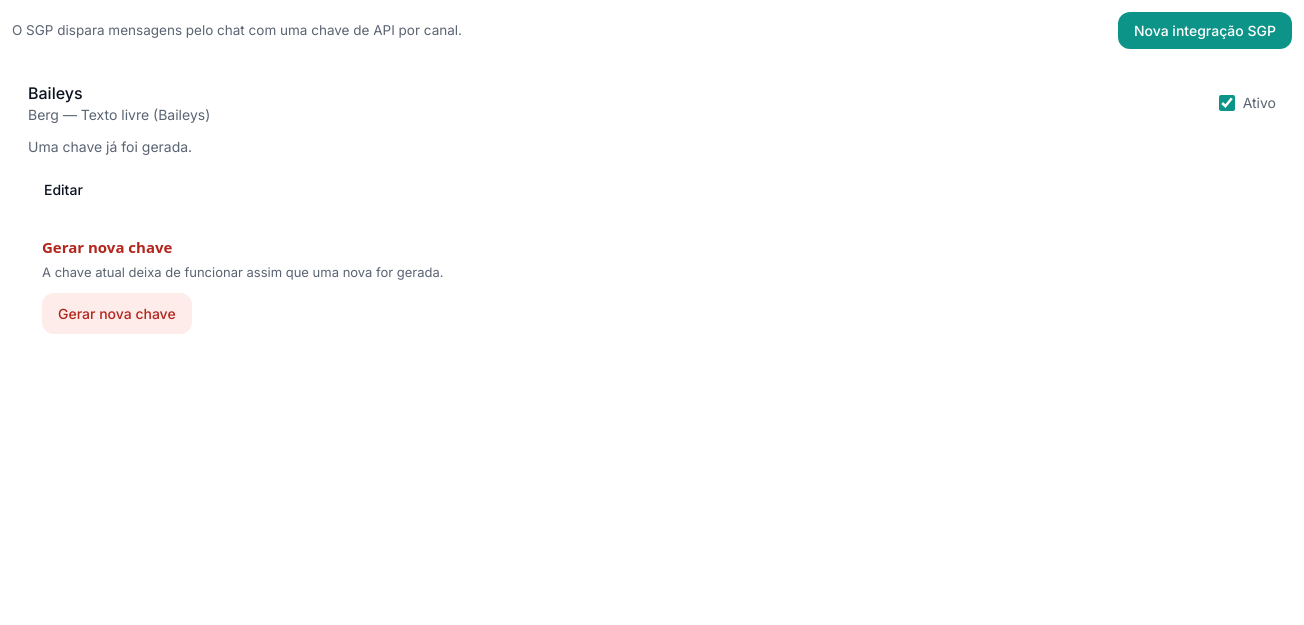
Scenario: SgpChannelPage › the edit form template selector follows the edit form own channel selection
The width and height of the screenshot is (1304, 625).
Click the button "Editar" at (63, 190), box [28,169,99,210]
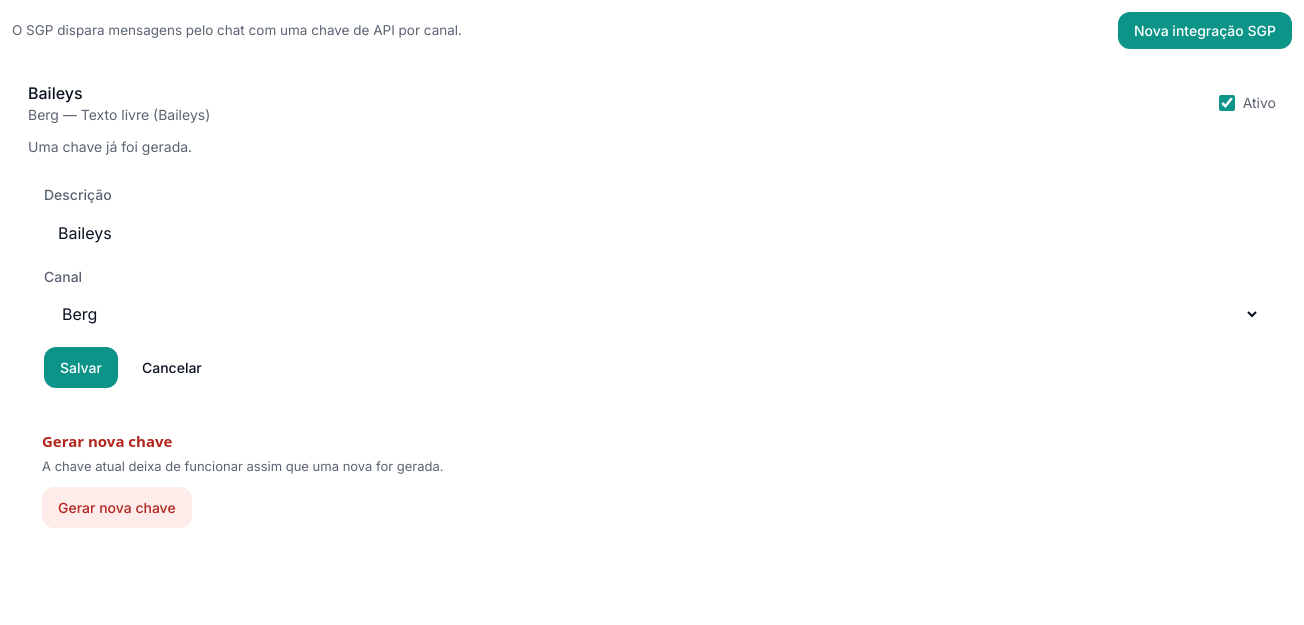
Check: the field labelled "template padrão" is not shown
Select "Oficial" in the dropdown labelled "Canal" at (652, 314), box [44,293,1260,335]
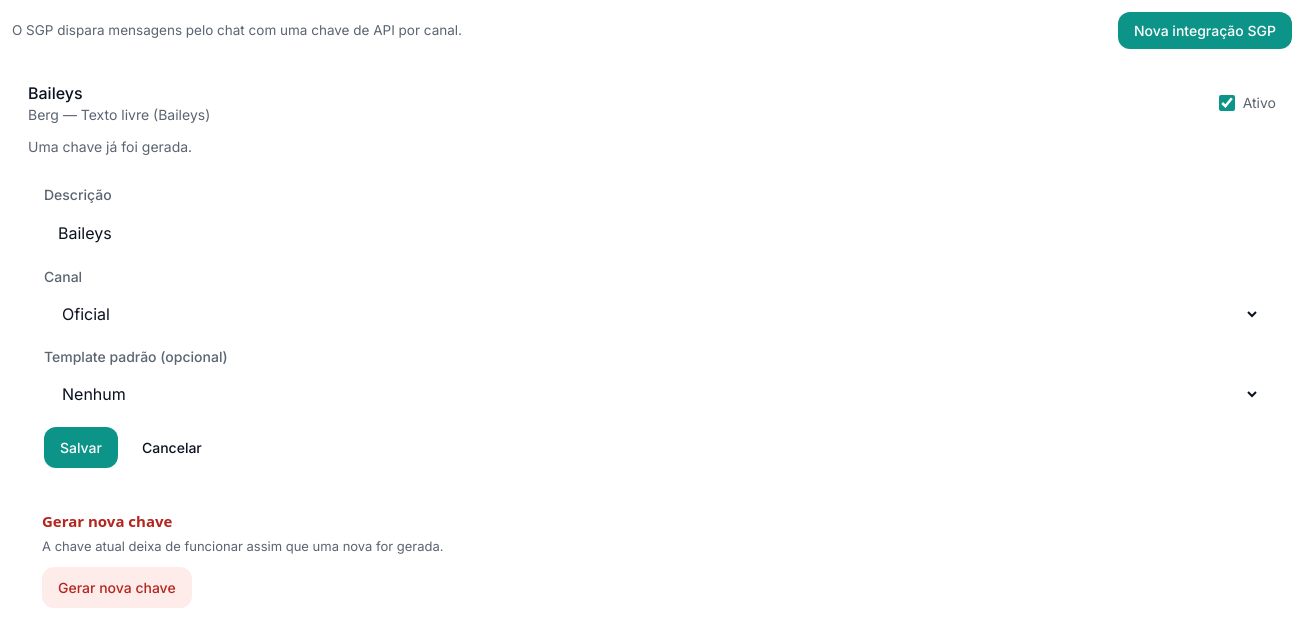
Check: the dropdown labelled "Template padrão (opcional)" is shown, box [44,373,1260,415]
